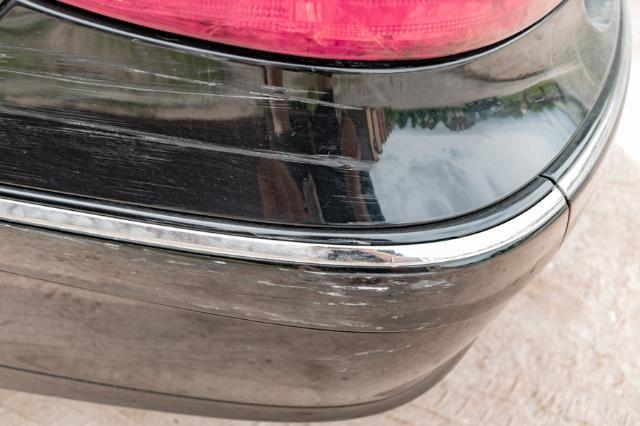Bumper: (0, 42, 512, 372)
